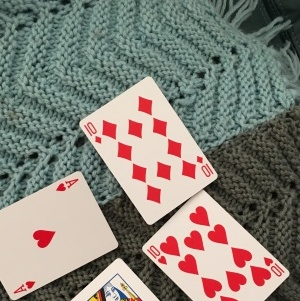card: (79, 75, 221, 226)
